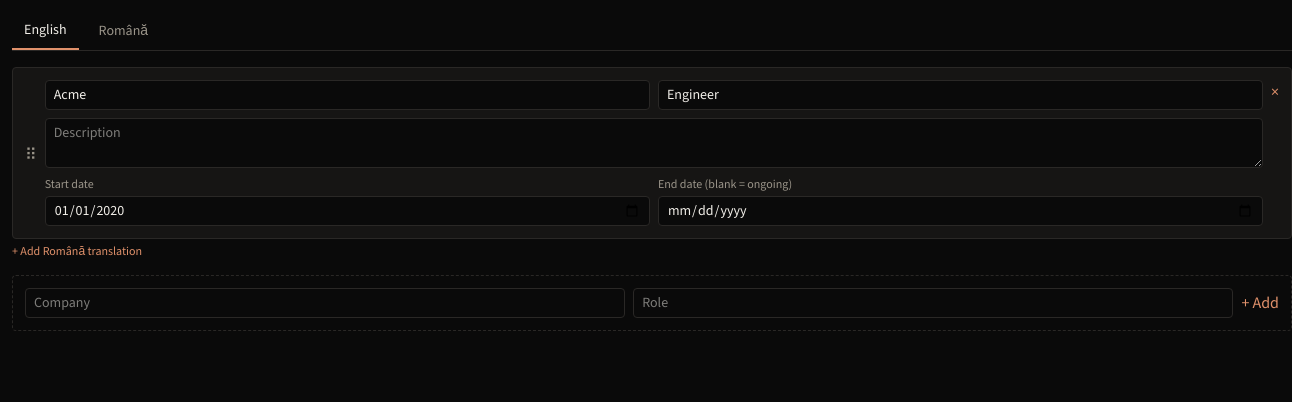
Scenario: ExperienceEditor › shows a dismissible error banner when a mutation fails
Click the button named "Delete" at (1275,92), box x1=1271 y1=80 x2=1279 y2=104
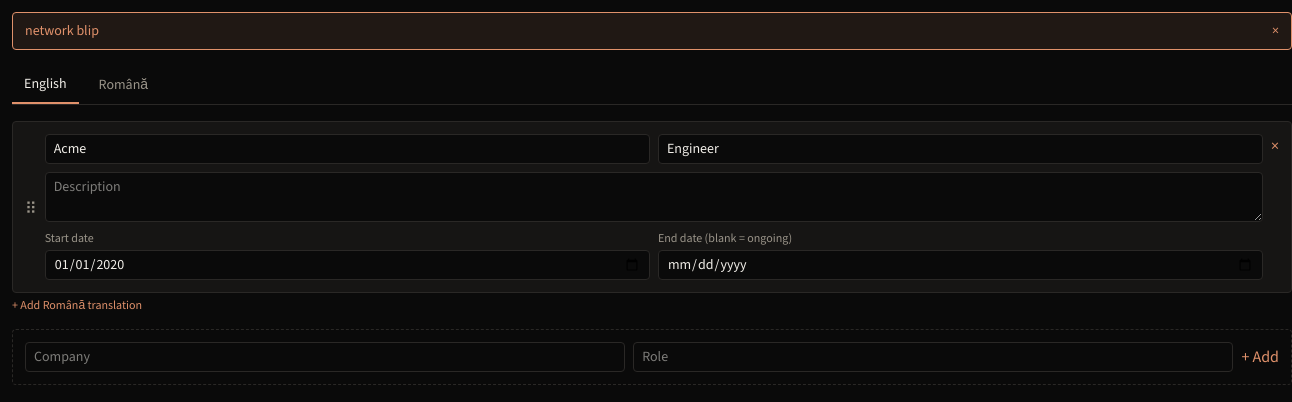
Expected: the text "network blip" is shown, x1=25 y1=21 x2=99 y2=41
Click the button named "Dismiss error" at (1276,31), box x1=1272 y1=21 x2=1279 y2=41
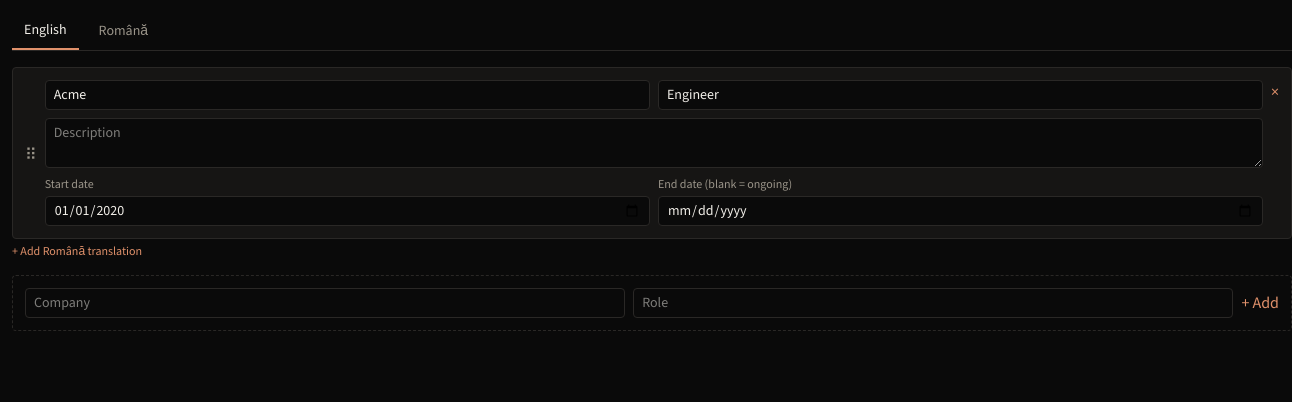
Expected: the text "network blip" is gone
